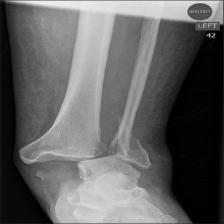fracture-dislocation: (7, 0, 218, 224)
